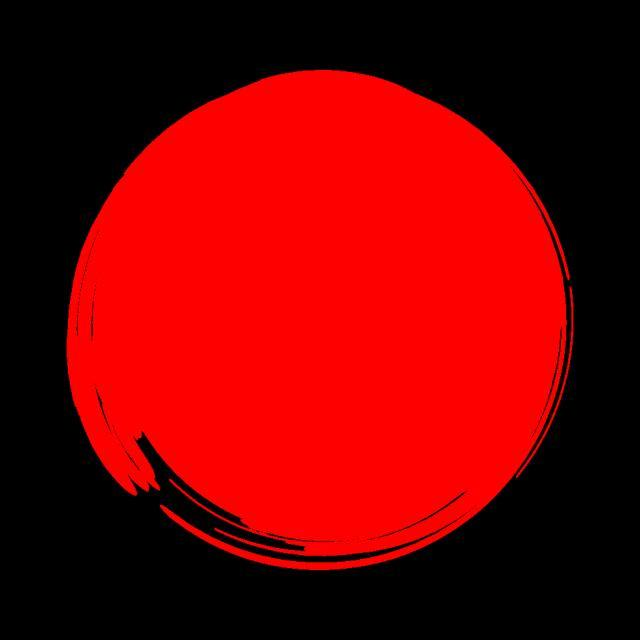Circle: (64, 69, 575, 572)
